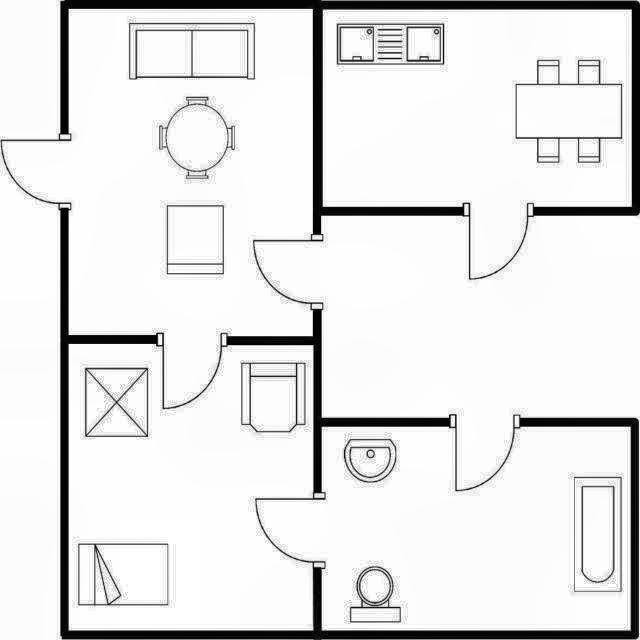room: (69, 10, 312, 335), (69, 345, 313, 630), (321, 427, 629, 630), (322, 11, 632, 206)
